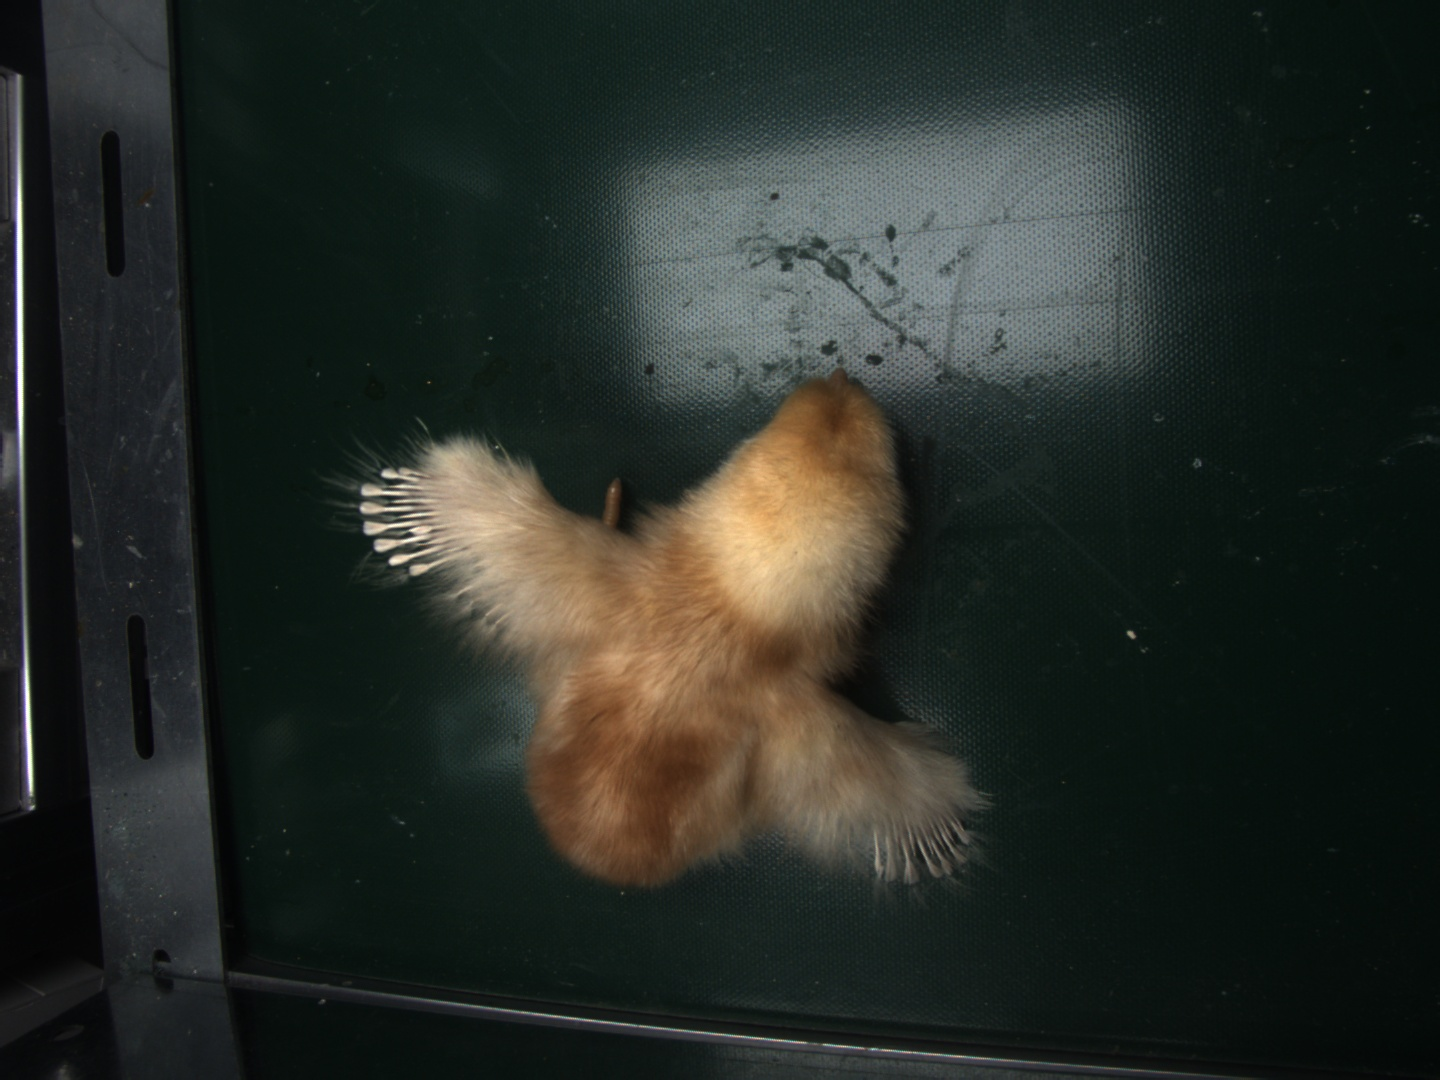female: (361, 469, 456, 577), (873, 805, 969, 879)
